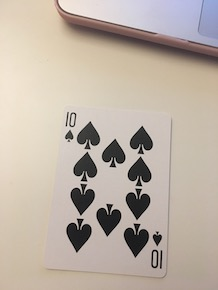TenOfSpades: (41, 104, 173, 283)
